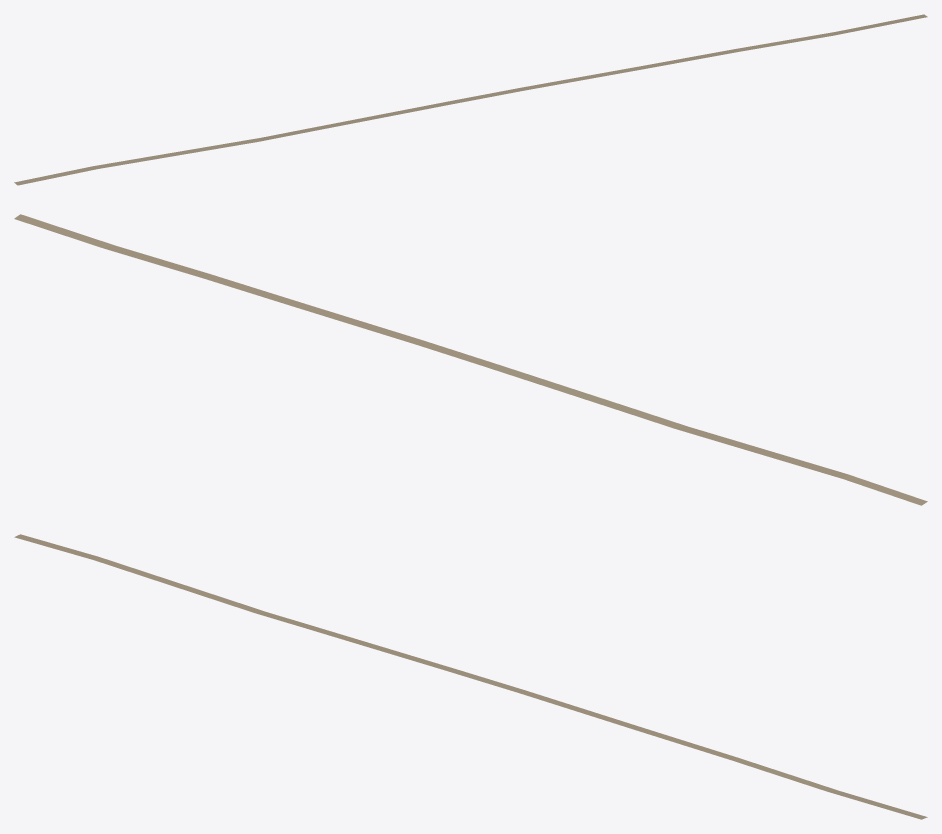
Rendered from farm_-32_-26_track.glb.
The picture shows the model from 3 angles, top to bottom: view 1: azimuth 30°, elevation 25°; view 2: azimuth 150°, elevation 25°; view 3: azimuth 330°, elevation 25°; orthographic projection. The views are drawn at different scales.
Visible parts, largest first — view 1: geometry_0; view 2: geometry_0; view 3: geometry_0.
Boxes of the visible parts, left/top/right/bottom form: geometry_0: left=14, top=14, right=927, bottom=185; geometry_0: left=14, top=214, right=927, bottom=505; geometry_0: left=14, top=534, right=927, bottom=819.
Size of the model in its own units: 342 by 1.26 by 42.79.
